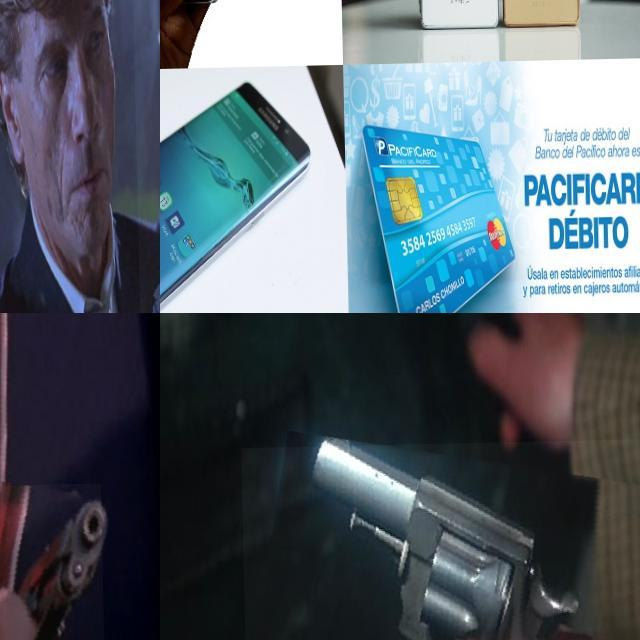gun-knife-thesis - v11 Yolov5 augmented: (239, 441, 640, 640), (0, 485, 104, 640)
